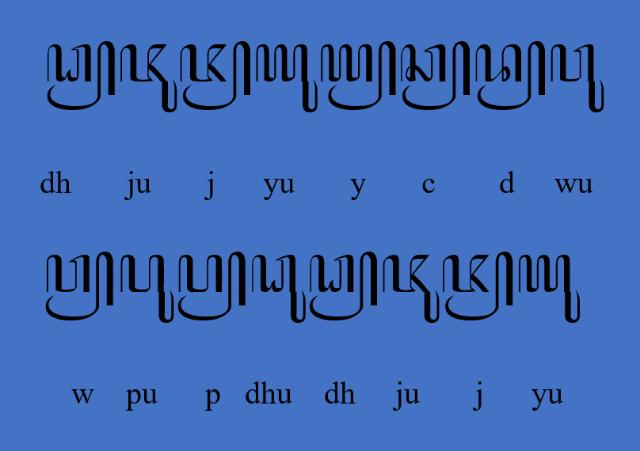-c: (401, 40, 471, 112)
-d: (475, 40, 547, 112)
-dh: (46, 40, 118, 112), (308, 252, 378, 322)
-j: (180, 39, 252, 111), (442, 252, 514, 322)
-p: (178, 252, 246, 322)
-w: (45, 251, 115, 323)
-y: (320, 40, 398, 112)
dhu: (251, 254, 307, 324)
ju: (382, 253, 441, 324), (120, 44, 178, 115)
pu: (120, 254, 174, 324)
wu: (550, 42, 606, 114)
yu: (518, 253, 582, 325), (256, 43, 318, 113)
